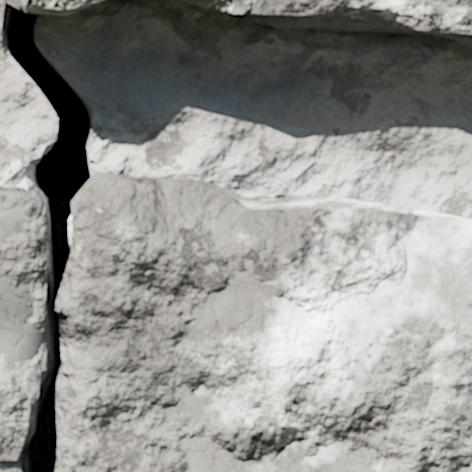brick: (182, 0, 471, 47), (4, 0, 100, 15)
broken_brick: (57, 170, 471, 471), (0, 184, 46, 471)
crack: (0, 2, 98, 471)
